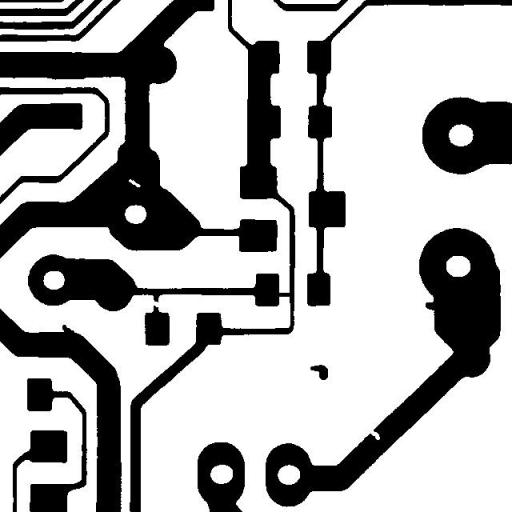copper: (302, 357, 336, 387)
mousebite: (362, 422, 388, 448)
open: (144, 294, 166, 314)
pin-hole: (121, 172, 148, 194)
short: (270, 285, 298, 304)
spur: (54, 316, 82, 342), (418, 294, 444, 318)
